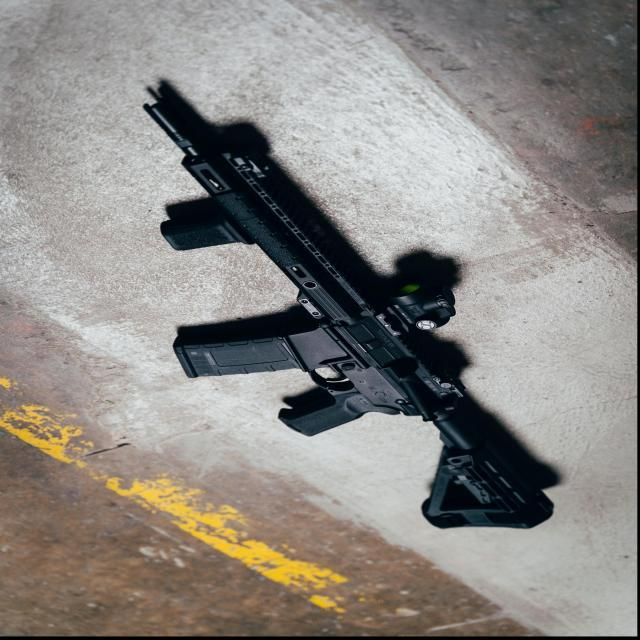weapon: (136, 64, 571, 533)
